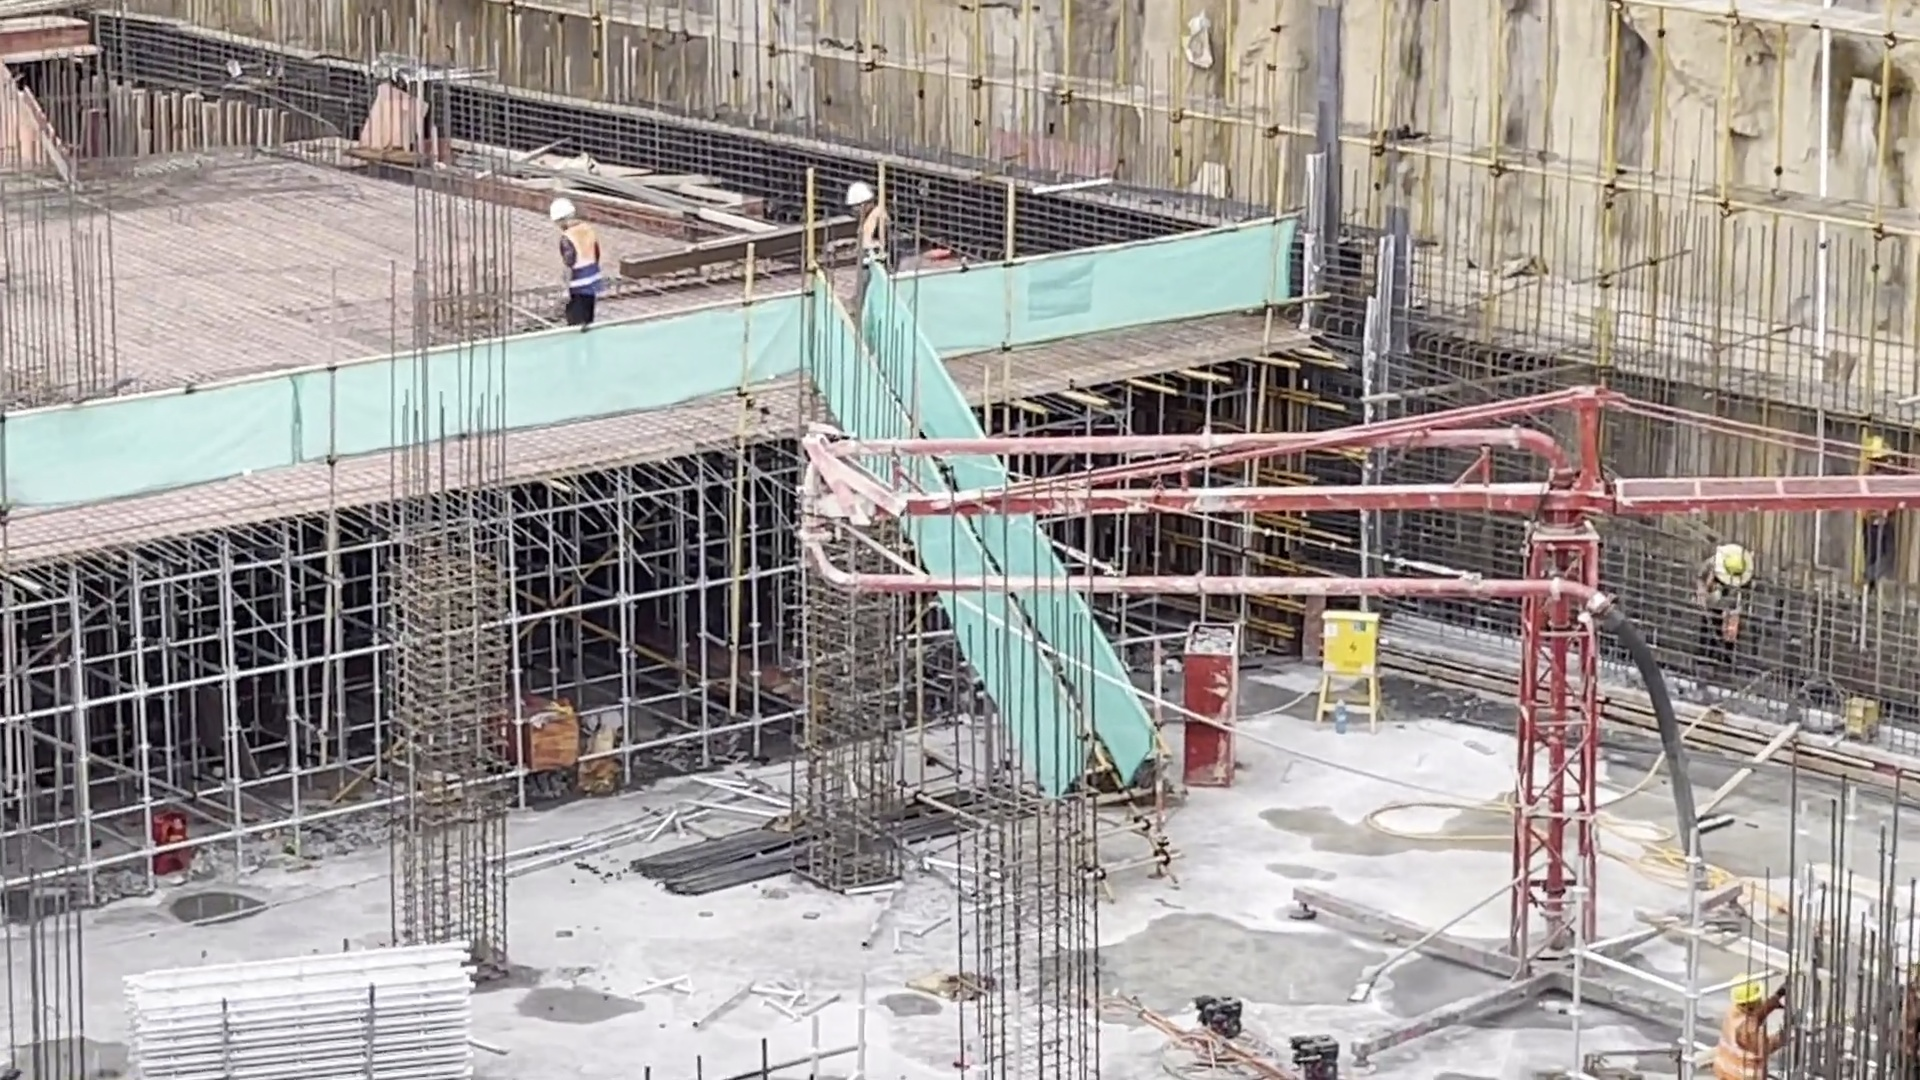ebox: (1313, 612, 1394, 685)
helmet: (1706, 537, 1754, 585), (1860, 431, 1900, 472), (1729, 965, 1764, 1006), (541, 197, 586, 223), (842, 177, 878, 209)
person: (1676, 527, 1765, 687), (535, 189, 623, 327), (1705, 959, 1783, 1075), (825, 175, 903, 275)
scaffold: (113, 931, 490, 1080)
vest: (1710, 1013, 1773, 1077), (553, 232, 606, 299), (858, 214, 900, 267)
